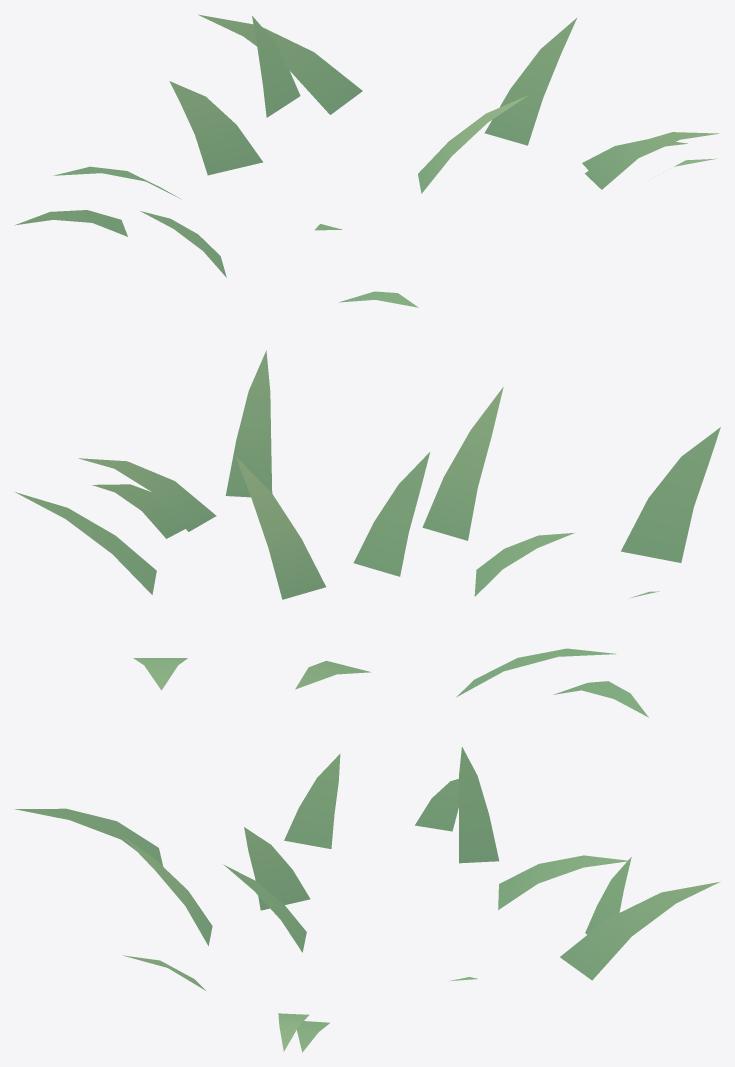
Rendered from grass_sward_far_a.glb.
3 renders of one model, top to bottom at view 1: azimuth 30°, elevation 25°; view 2: azimuth 150°, elevation 25°; view 3: azimuth 270°, elevation 25°, orthographic. The views are drawn at different scales.
Parts seen in each view (by area): view 1: soft; view 2: soft; view 3: soft.
Boxes of the visible parts, bbox=[...] form: soft: bbox=[15, 14, 718, 307]; soft: bbox=[15, 350, 720, 717]; soft: bbox=[14, 747, 720, 1052].
Bounding box in the file's own units: 1.03 × 0.1622 × 1.06.
